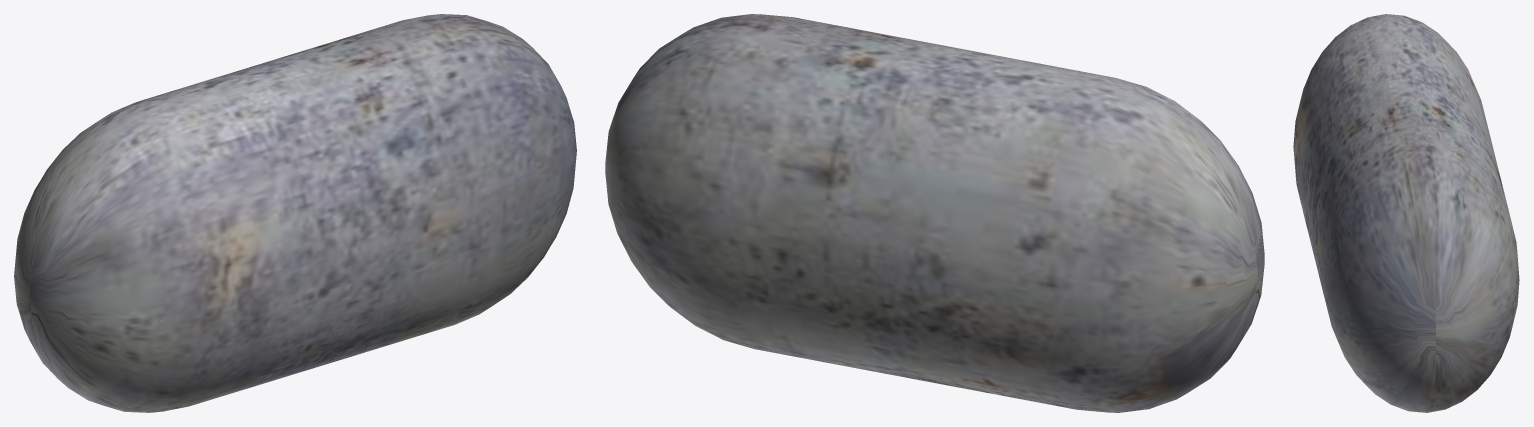
File: Fender_Front_Left.fbx
The picture shows the model from 3 angles, left to right: view 1: azimuth 30°, elevation 25°; view 2: azimuth 150°, elevation 25°; view 3: azimuth 270°, elevation 25°; orthographic projection. The views are drawn at different scales.
Visible parts, largest first — view 1: Fender_Front_Left; view 2: Fender_Front_Left; view 3: Fender_Front_Left.
Boxes of the visible parts, x1,y1,x2,y2 form: Fender_Front_Left: [14, 14, 576, 412]; Fender_Front_Left: [605, 14, 1264, 412]; Fender_Front_Left: [1293, 14, 1519, 412].
Size of the model in its own units: 1.14 by 0.5743 by 0.4617.
